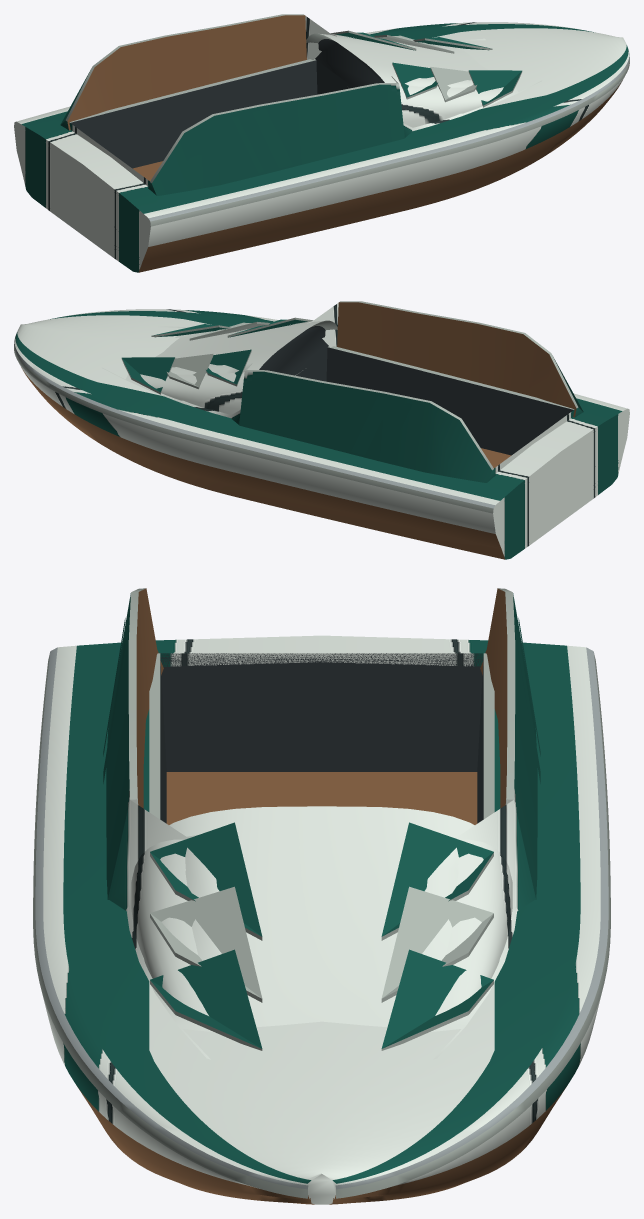
Rendered from Hull_20_SR_青磁・黒稜.glb.
3 views of the same model, one above another, from view 1: azimuth 30°, elevation 25°; view 2: azimuth 150°, elevation 25°; view 3: azimuth 270°, elevation 25° (orthographic). The views are drawn at different scales.
Visible parts, largest first — view 1: Hull_20_SR; view 2: Hull_20_SR; view 3: Hull_20_SR.
Part boxes in pixels (x1,y1,x2,y2): Hull_20_SR: (14, 14, 629, 272); Hull_20_SR: (14, 301, 629, 559); Hull_20_SR: (33, 588, 610, 1204).
Bounding box in the file's own units: 2.9 × 0.6856 × 1.34.
Materials: 4 (4 with a texture image).
